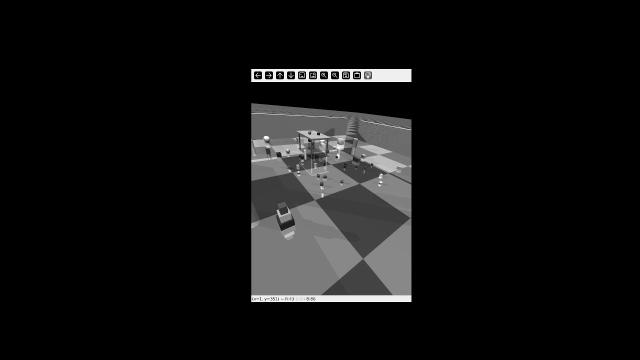cilindro: (251, 138, 258, 156), (352, 137, 360, 148), (264, 145, 271, 156), (336, 148, 343, 155), (284, 165, 292, 170), (319, 187, 325, 192), (363, 165, 368, 171), (319, 181, 325, 186), (304, 148, 308, 155), (311, 141, 314, 148), (314, 163, 318, 168), (322, 162, 326, 167), (310, 128, 313, 133), (371, 163, 374, 168), (342, 165, 346, 168)
cuadrado: (274, 216, 297, 229), (276, 211, 293, 220), (278, 203, 289, 212), (295, 136, 304, 144), (360, 153, 369, 160), (336, 137, 345, 143), (318, 153, 325, 159), (276, 153, 284, 158), (294, 164, 301, 168), (315, 131, 320, 136), (380, 172, 384, 178), (322, 175, 326, 179), (345, 163, 349, 164)
esfera: (261, 134, 273, 143), (295, 170, 302, 176), (316, 172, 323, 178), (378, 180, 384, 186), (354, 164, 360, 170), (299, 159, 306, 164), (285, 148, 292, 153), (337, 179, 345, 183), (318, 139, 326, 143), (324, 148, 331, 152), (307, 131, 312, 135), (334, 156, 339, 159), (333, 146, 337, 149)
rectangulo: (395, 164, 405, 171), (352, 155, 359, 164), (319, 142, 327, 148), (298, 154, 304, 159)
